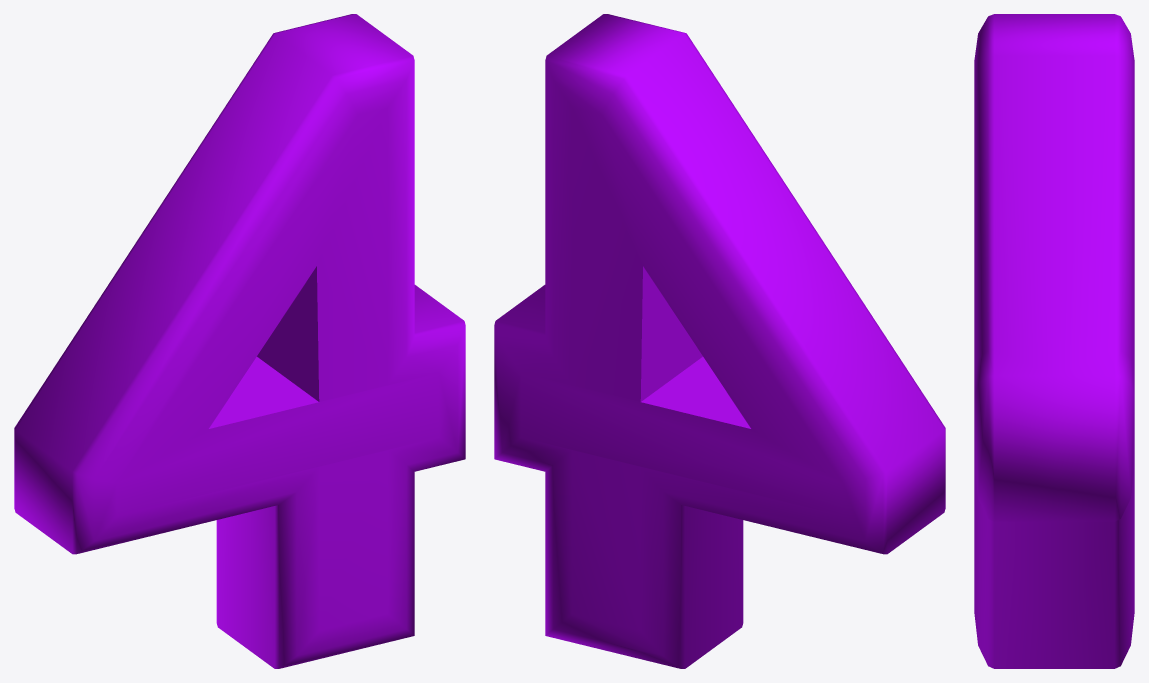
The picture shows the model from 3 angles, left to right: view 1: azimuth 30°, elevation 25°; view 2: azimuth 150°, elevation 25°; view 3: azimuth 270°, elevation 25°; orthographic projection. The views are drawn at different scales.
Parts seen in each view (by area): view 1: 4_Numbers005_0; view 2: 4_Numbers005_0; view 3: 4_Numbers005_0.
Part boxes in pixels (left/top/right/bottom): 4_Numbers005_0: left=14, top=14, right=465, bottom=668; 4_Numbers005_0: left=494, top=14, right=945, bottom=668; 4_Numbers005_0: left=974, top=14, right=1134, bottom=668.
Bounding box in the file's own units: 0.28 × 0.3955 × 0.0938.
